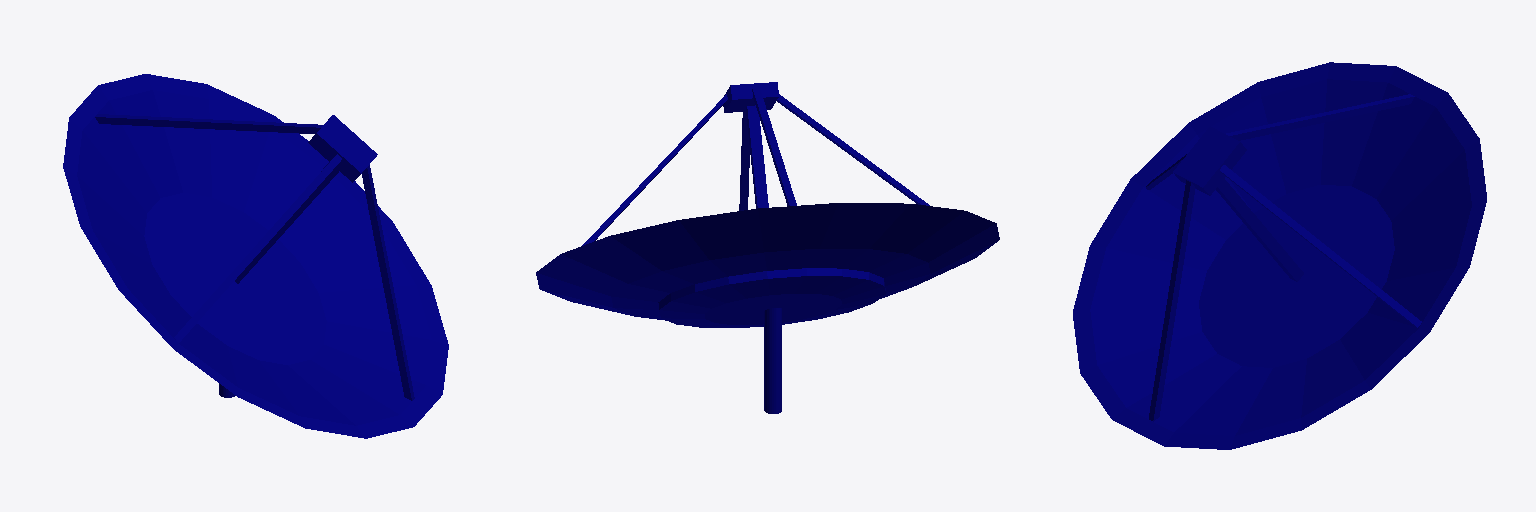
The model's file is sat.obj.
The picture shows the model from 3 angles: view 1: azimuth 30°, elevation 25°; view 2: azimuth 150°, elevation 25°; view 3: azimuth 270°, elevation 25°; orthographic projection.
Visible parts, largest first — view 1: Sphere002; view 2: Sphere002; view 3: Sphere002.
Part boxes in pixels (left/top/right/bottom): Sphere002: left=63, top=74, right=448, bottom=438; Sphere002: left=536, top=82, right=999, bottom=413; Sphere002: left=1073, top=62, right=1486, bottom=449.
Size of the model in its own units: 57 by 41.5 by 54.84.